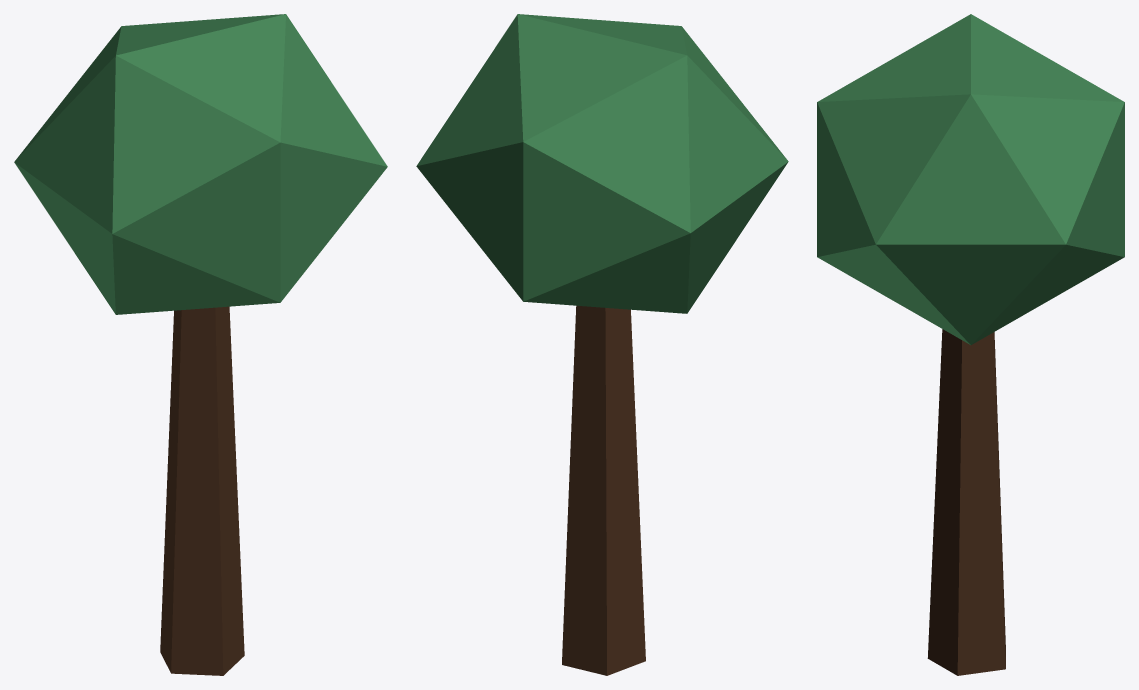
File: crop_apple_s1.glb
The picture shows the model from 3 angles, left to right: view 1: azimuth 30°, elevation 25°; view 2: azimuth 150°, elevation 25°; view 3: azimuth 270°, elevation 25°; orthographic projection. The views are drawn at different scales.
Visible parts, largest first — view 1: crop_apple_s1; view 2: crop_apple_s1; view 3: crop_apple_s1.
Boxes of the visible parts, left/top/right/bottom form: crop_apple_s1: left=14, top=14, right=387, bottom=675; crop_apple_s1: left=416, top=14, right=788, bottom=675; crop_apple_s1: left=817, top=14, right=1124, bottom=675.
Bounding box in the file's own units: 0.3062 × 0.6638 × 0.3062.
